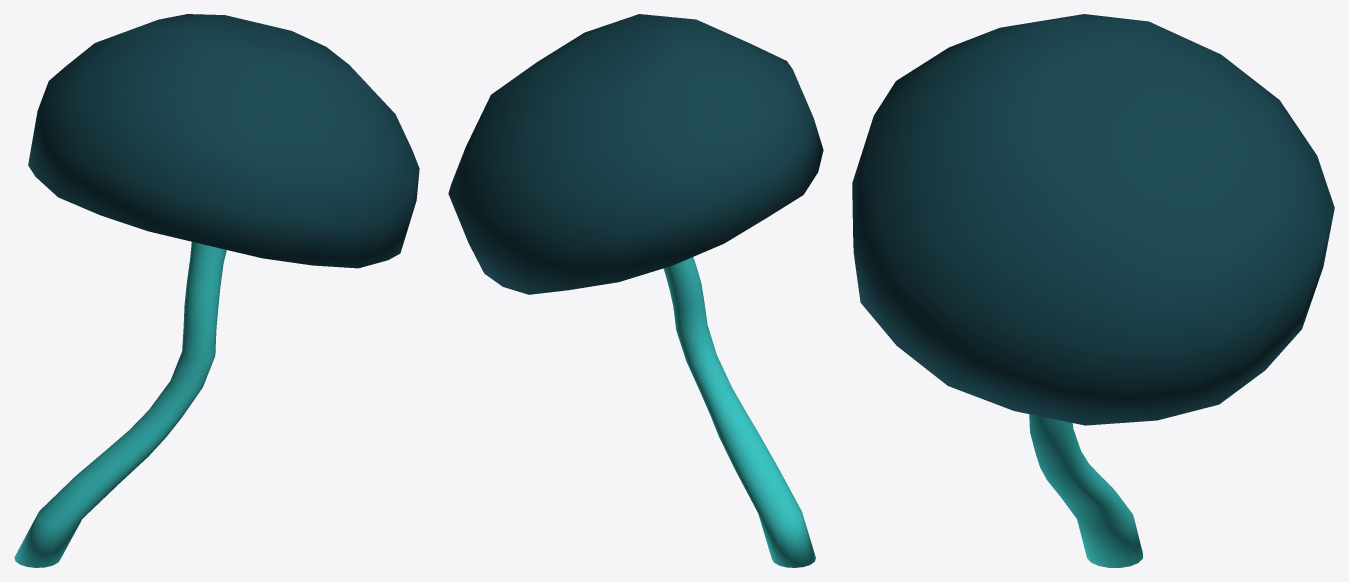
File: mushroom07_001.fbx
3 views of the same model, side by side, from view 1: azimuth 30°, elevation 25°; view 2: azimuth 150°, elevation 25°; view 3: azimuth 270°, elevation 25° (orthographic). The views are drawn at different scales.
Parts seen in each view (by area): view 1: Icosphere.001; view 2: Icosphere.001; view 3: Icosphere.001.
Boxes of the visible parts, left/top/right/bottom form: Icosphere.001: left=14, top=14, right=419, bottom=567; Icosphere.001: left=448, top=14, right=823, bottom=567; Icosphere.001: left=852, top=14, right=1334, bottom=567.
Size of the model in its own units: 256 by 338 by 240.
